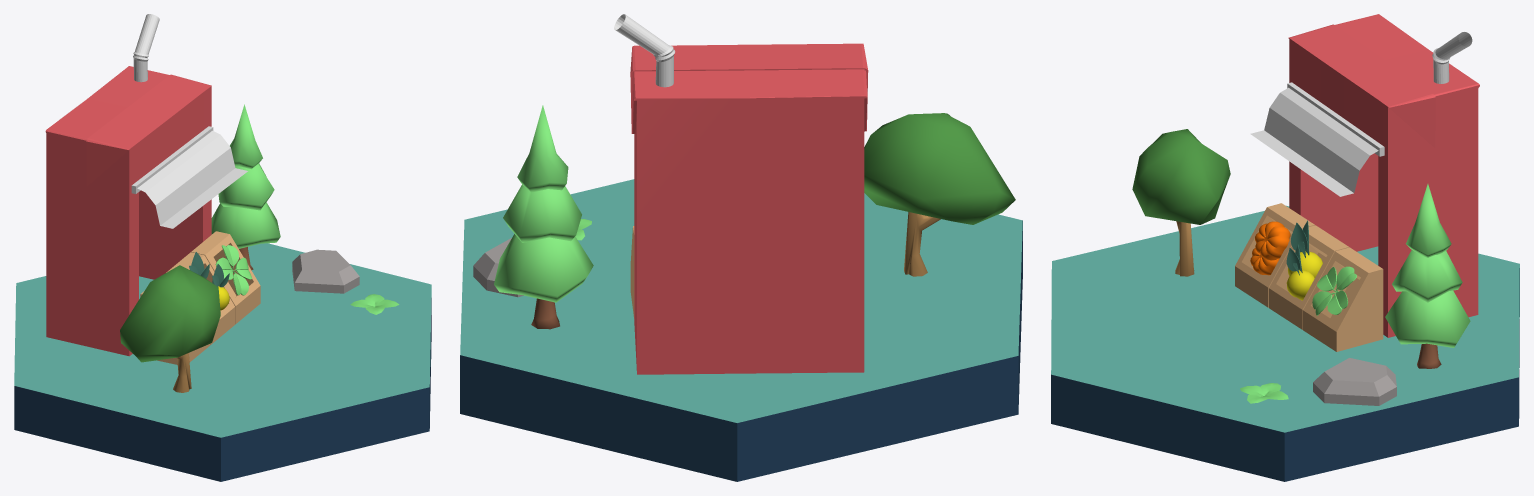
Rendered from Macro - Market lv2.fbx.
3 renders of one model, left to right at view 1: azimuth 30°, elevation 25°; view 2: azimuth 150°, elevation 25°; view 3: azimuth 270°, elevation 25°, orthographic. The views are drawn at different scales.
Parts seen in each view (by area): view 1: Cylinder.154, Juicebox Open, tree1 v:88 f:56, Plane.095, Tree_Spruce_tiny_01.003, Rock Type4 04 mesh.002, Cube.142, Cylinder, Cube.141, Cube.007, Plane.006; view 2: Cylinder.154, Juicebox Open, tree1 v:88 f:56, Tree_Spruce_tiny_01.003, Cylinder, Rock Type4 04 mesh.002; view 3: Cylinder.154, Juicebox Open, Tree_Spruce_tiny_01.003, tree1 v:88 f:56, Plane.095, Cube.142, Rock Type4 04 mesh.002, Cube.140, Cube.141, Sphere.053, Cylinder, Cube.007 (+2 smaller).
Boxes of the visible parts, bbox=[...] form: Cylinder.154: bbox=[14, 243, 431, 481]; Juicebox Open: bbox=[45, 66, 211, 356]; tree1 v:88 f:56: bbox=[120, 265, 220, 392]; Plane.095: bbox=[137, 130, 247, 228]; Tree_Spruce_tiny_01.003: bbox=[211, 104, 280, 270]; Rock Type4 04 mesh.002: bbox=[292, 249, 359, 293]; Cube.142: bbox=[191, 231, 260, 324]; Cylinder: bbox=[133, 14, 159, 82]; Cube.141: bbox=[166, 252, 235, 345]; Cube.007: bbox=[131, 126, 213, 193]; Plane.006: bbox=[350, 294, 399, 314]; Cylinder.154: bbox=[460, 179, 1022, 481]; Juicebox Open: bbox=[630, 43, 868, 374]; tree1 v:88 f:56: bbox=[864, 113, 1015, 276]; Tree_Spruce_tiny_01.003: bbox=[494, 105, 593, 329]; Cylinder: bbox=[614, 14, 675, 87]; Rock Type4 04 mesh.002: bbox=[473, 238, 523, 297]; Cylinder.154: bbox=[1051, 205, 1519, 481]; Juicebox Open: bbox=[1288, 14, 1479, 337]; Tree_Spruce_tiny_01.003: bbox=[1385, 184, 1470, 368]; tree1 v:88 f:56: bbox=[1132, 129, 1230, 276]; Plane.095: bbox=[1250, 87, 1378, 196]; Cube.142: bbox=[1303, 247, 1383, 351]; Rock Type4 04 mesh.002: bbox=[1313, 358, 1396, 405]; Cube.140: bbox=[1235, 203, 1314, 307]; Cube.141: bbox=[1269, 225, 1349, 329]; Sphere.053: bbox=[1255, 221, 1290, 260]; Cylinder: bbox=[1432, 32, 1472, 83]; Cube.007: bbox=[1287, 82, 1384, 156].
Size of the model in its own units: 197 by 138 by 172.
